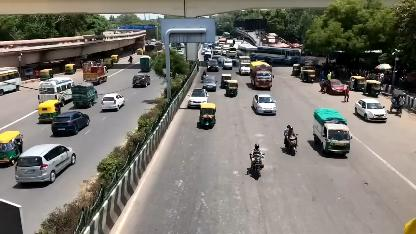auto-rikshaw: (199, 103, 216, 130), (364, 80, 382, 96), (350, 75, 367, 91), (301, 69, 316, 83), (226, 80, 238, 97), (220, 73, 232, 88), (292, 64, 301, 76)
bike: (248, 151, 266, 179), (282, 132, 300, 158)
bus: (255, 46, 301, 64), (238, 43, 256, 61)
car: (356, 98, 388, 122), (251, 92, 278, 118), (186, 86, 209, 110), (202, 73, 218, 93), (326, 79, 345, 94), (207, 58, 219, 72)
priority: (223, 58, 232, 69)
truck: (312, 108, 354, 156), (251, 62, 275, 90), (239, 56, 251, 76)
